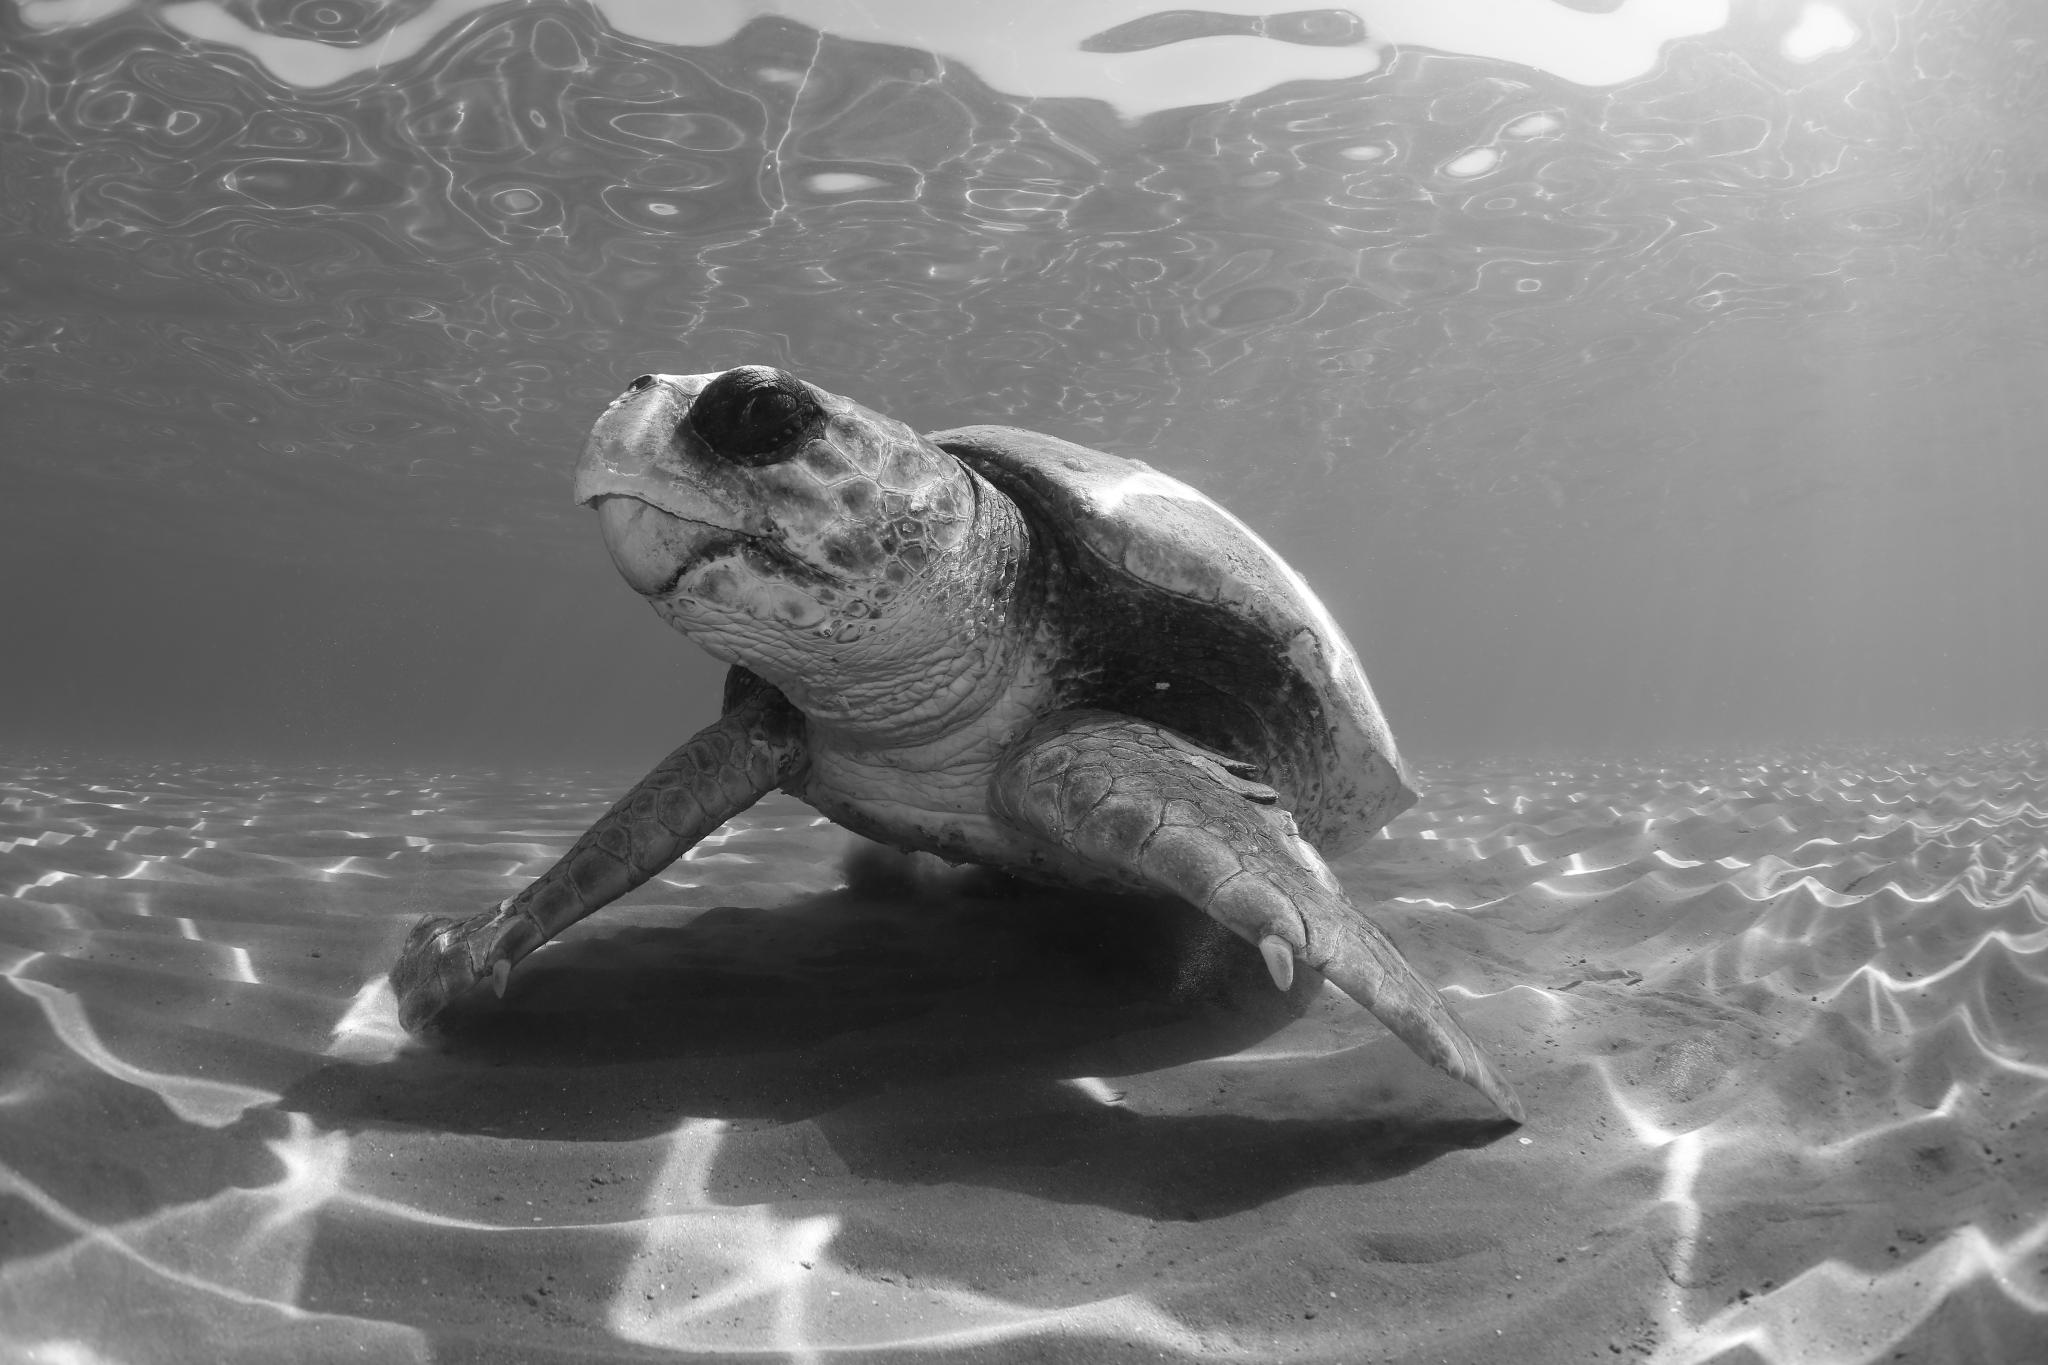Head: (575, 366, 1021, 703)
